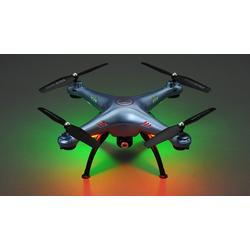drone: (38, 61, 218, 180)
